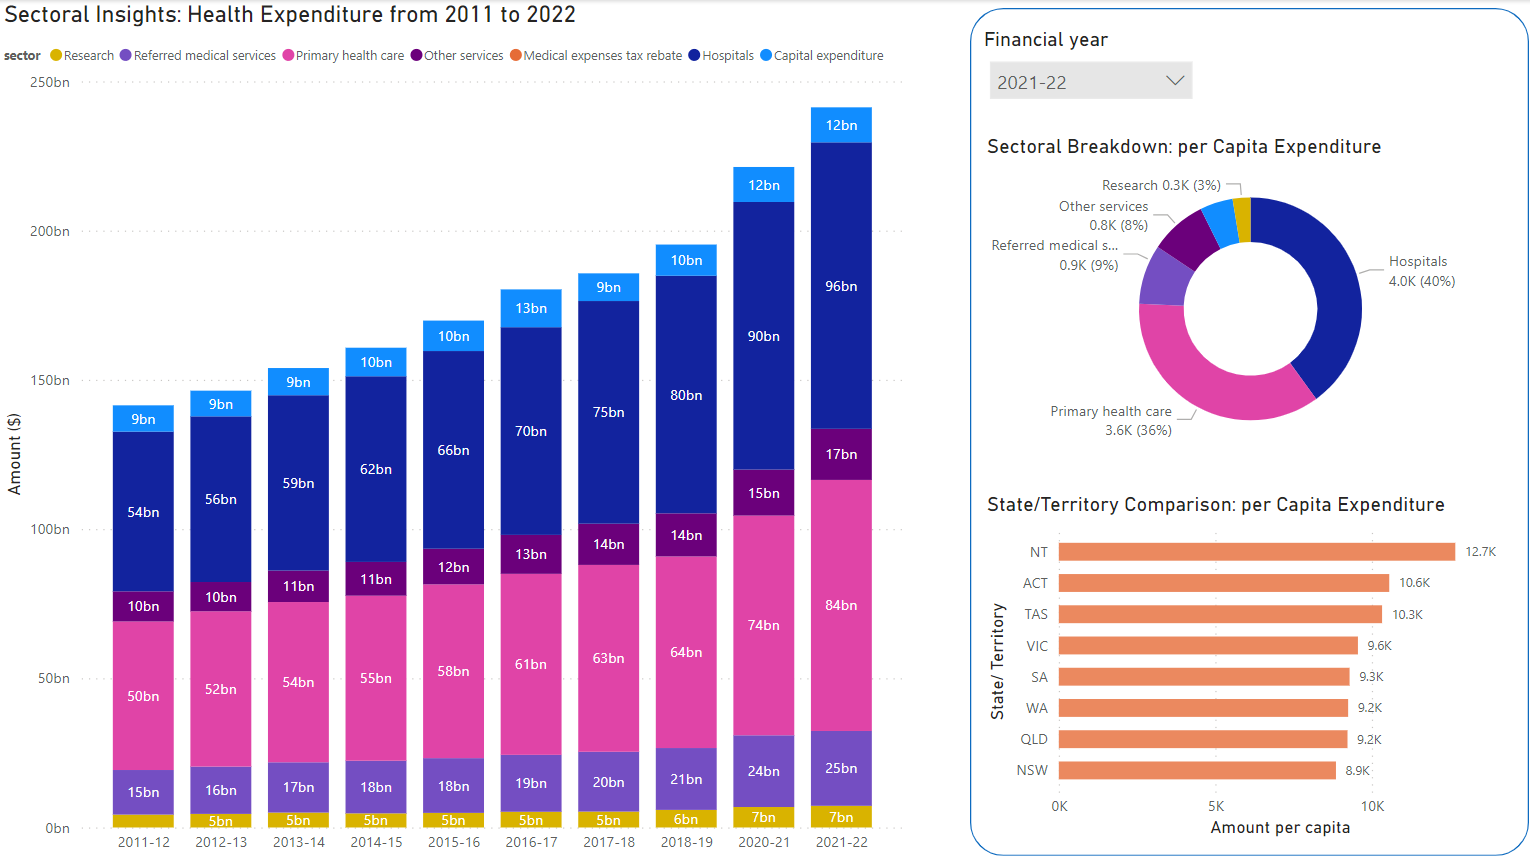

What the dashboard file says about the page in this screenshot:
{"tool":"powerbi","page":{"name":"Sector breakdown","canvas":[1280,720],"ordinal":0},"visuals":[{"type":"shape","box":[811.9,6.7,466.9,708.3],"z":0},{"type":"columnChart","title":"Sectoral Insights: Health Expenditure from 2011 to 2022","fields":{"Category":["sector_expnd_with_pop.year"],"Series":["sector_expnd_with_pop.sector"],"Y":["Sum(sector_expnd_with_pop.total_amount)"]},"box":[0,0,761.8,720.8],"z":1000},{"type":"donutChart","title":"Sectoral Breakdown: per Capita Expenditure","fields":{"Category":["sector_expnd_with_pop.sector"],"Y":["Avg(sector_expnd_with_pop.amount_per_person)"]},"box":[821.1,111.9,450.2,273.1],"z":2000},{"type":"clusteredBarChart","title":"State/Territory Comparison: per Capita Expenditure","fields":{"Category":["sector_expnd_with_pop.jurisdiction"],"Y":["Sum(sector_expnd_with_pop.amount_per_person)"]},"box":[821.1,411,450.2,293.2],"z":3000},{"type":"slicer","title":"Financial year","fields":{"Values":["sector_expnd_with_pop.year"]},"box":[818.6,22.6,188.8,63.5],"z":4000}]}

Visuals, with their boxes in screenshot pixels (x1, y1, x2, y2), scaled from the page's 1280x720 canvas onto the 1530x860 screenshot:
shape: [left=970, top=8, right=1529, bottom=854]
"Sectoral Insights: Health Expenditure from 2011 to 2022" columnChart: [left=0, top=0, right=911, bottom=859]
"Sectoral Breakdown: per Capita Expenditure" donutChart: [left=981, top=134, right=1520, bottom=460]
"State/Territory Comparison: per Capita Expenditure" clusteredBarChart: [left=981, top=491, right=1520, bottom=841]
"Financial year" slicer: [left=978, top=27, right=1204, bottom=103]
